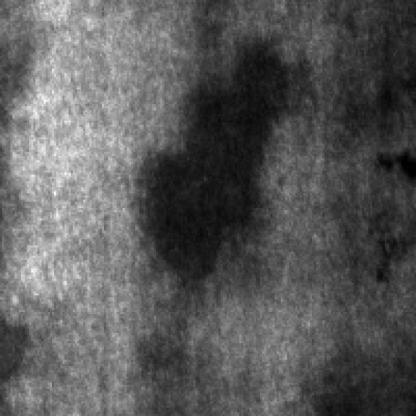patches: (135, 31, 314, 287)
